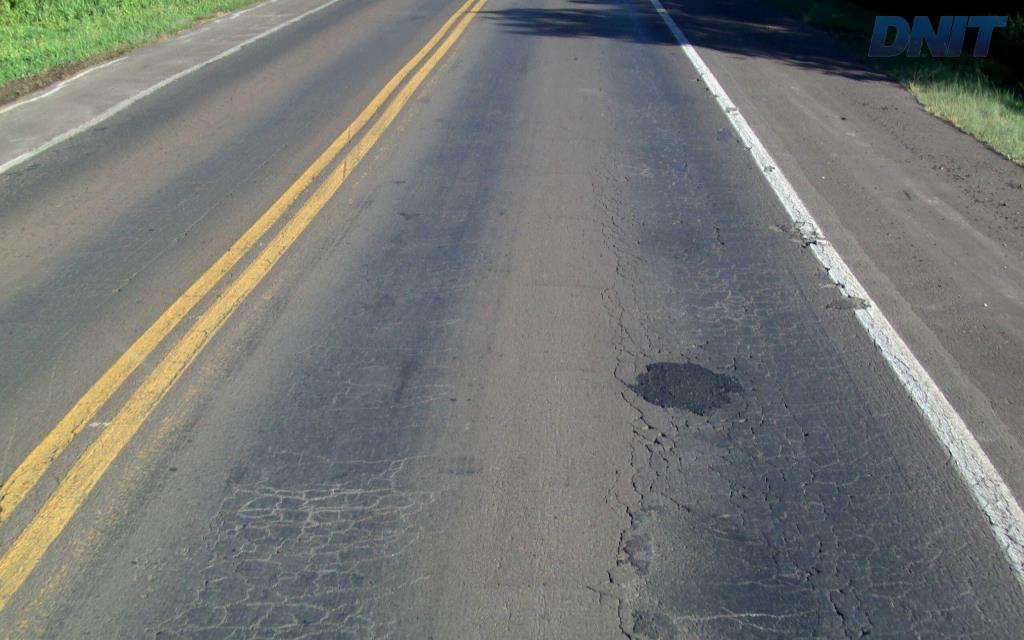crack: (627, 361, 745, 416), (750, 546, 814, 615), (777, 607, 822, 639), (669, 496, 706, 523)
pothole: (765, 222, 785, 233), (818, 278, 838, 288), (787, 234, 803, 243), (691, 73, 701, 81), (703, 84, 709, 90)
